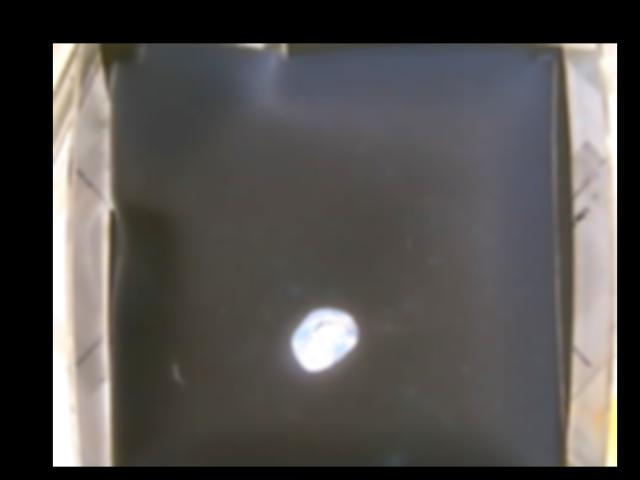Pebble: (291, 310, 362, 372)
